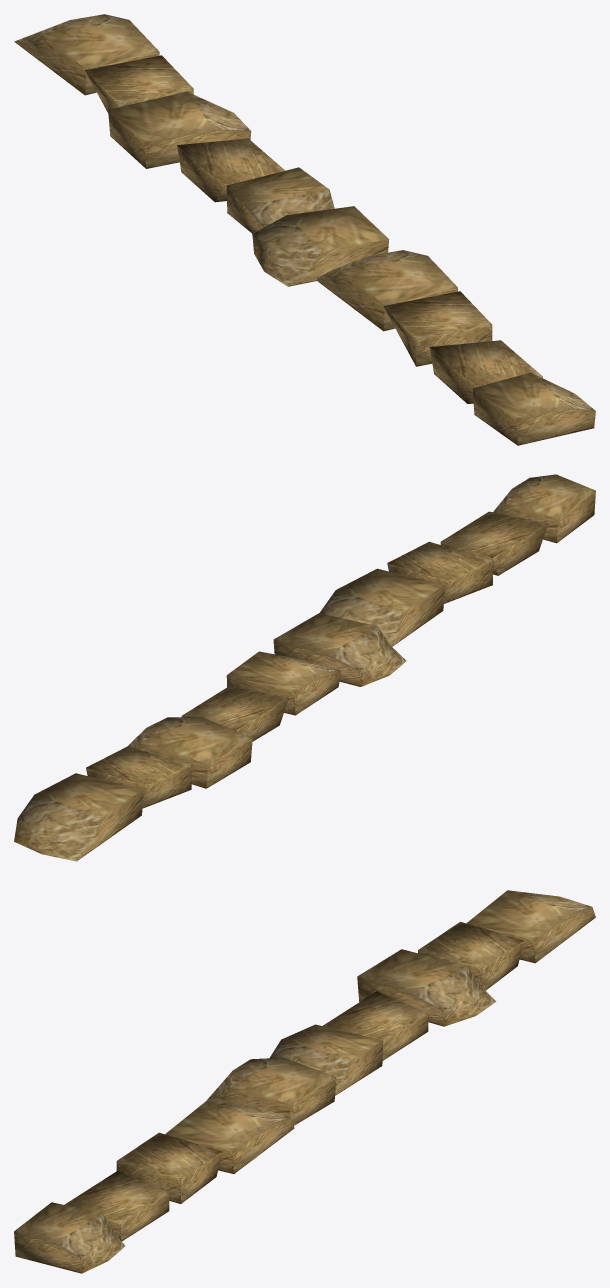
File: S_Build_Desert088.FBX
The picture shows the model from 3 angles, top to bottom: view 1: azimuth 30°, elevation 25°; view 2: azimuth 150°, elevation 25°; view 3: azimuth 330°, elevation 25°; orthographic projection. The views are drawn at different scales.
Visible parts, largest first — view 1: S_Build_Desert088; view 2: S_Build_Desert088; view 3: S_Build_Desert088.
Boxes of the visible parts, left/top/right/bottom form: S_Build_Desert088: left=14, top=14, right=595, bottom=445; S_Build_Desert088: left=14, top=474, right=595, bottom=861; S_Build_Desert088: left=14, top=890, right=595, bottom=1273.
Size of the model in its own units: 83.94 by 607 by 21.94.
